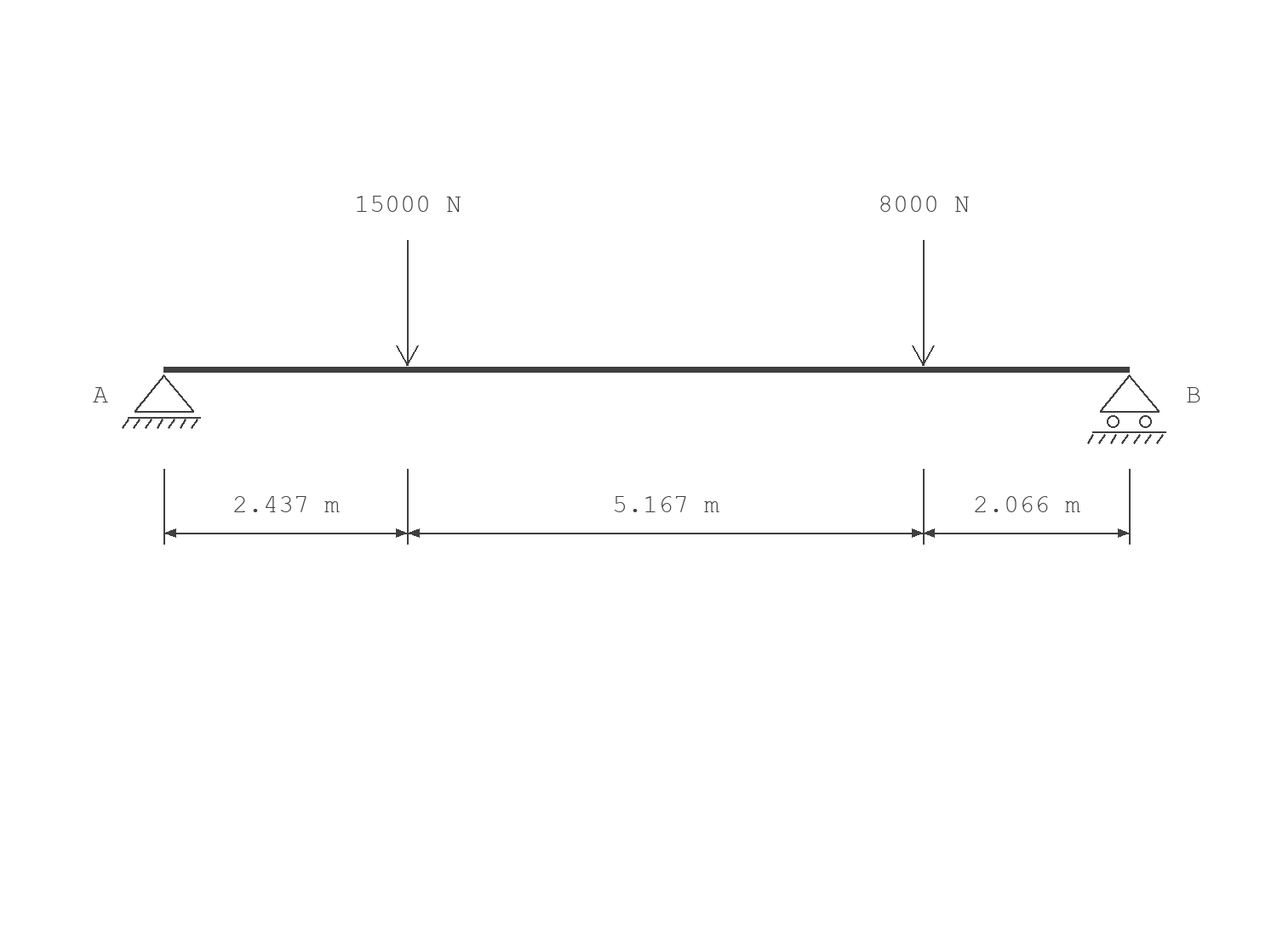pin_support: (122, 374, 201, 429)
point_load: (396, 240, 419, 366), (912, 240, 935, 366)
roller_support: (1087, 374, 1166, 444)
